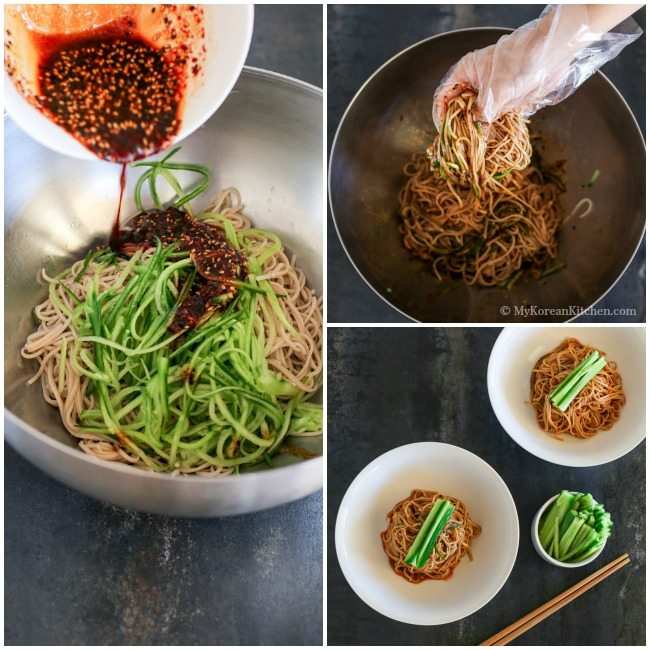Soba: (39, 206, 320, 474), (403, 94, 561, 290), (370, 486, 490, 591), (529, 333, 620, 438)
